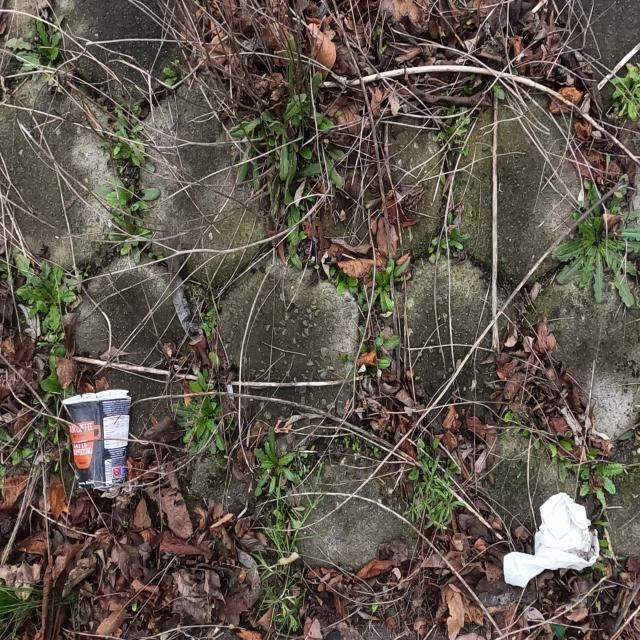Cup: (57, 384, 145, 499)
